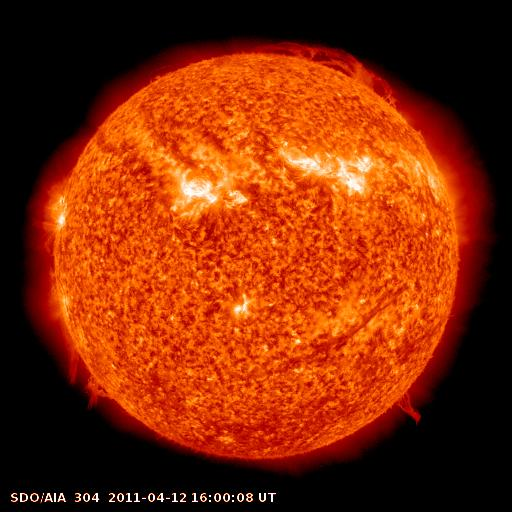prominence: (249, 28, 404, 112), (53, 339, 123, 415), (388, 382, 429, 431)
